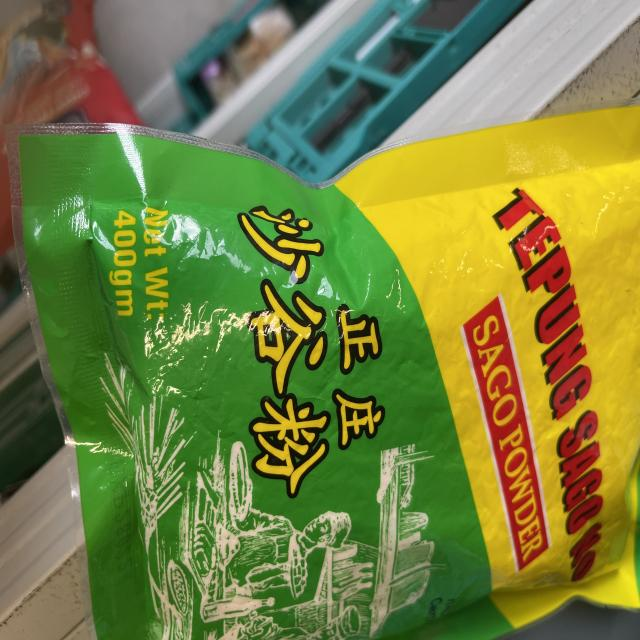object_name: (21, 144, 640, 637)
